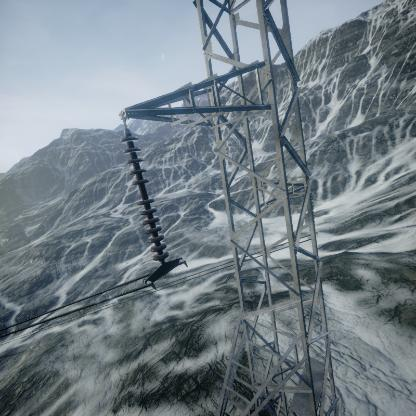insulator: (119, 124, 169, 262)
